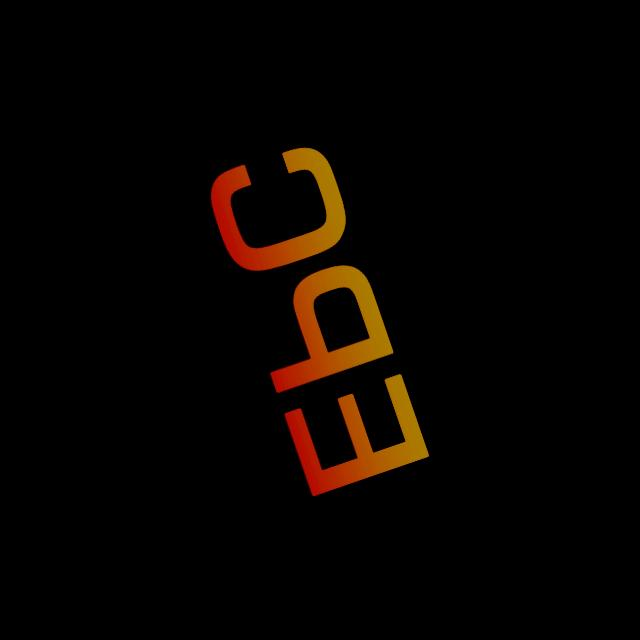kontrolka: (158, 102, 467, 545)
